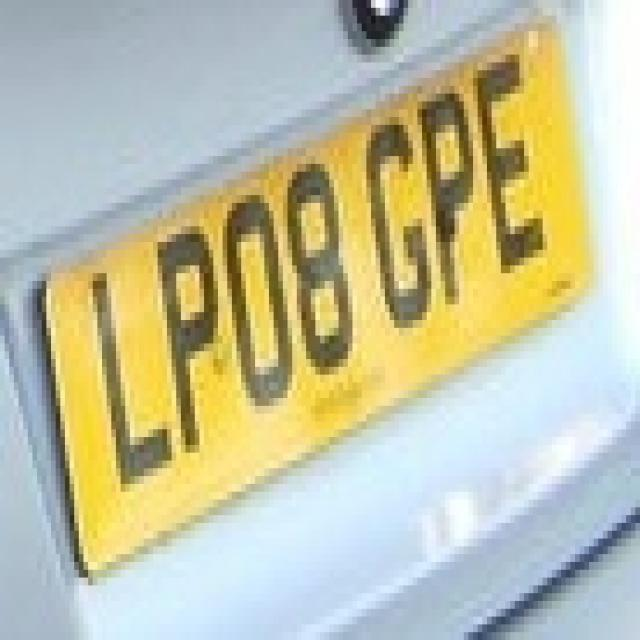licenseplate: (31, 0, 586, 590)
